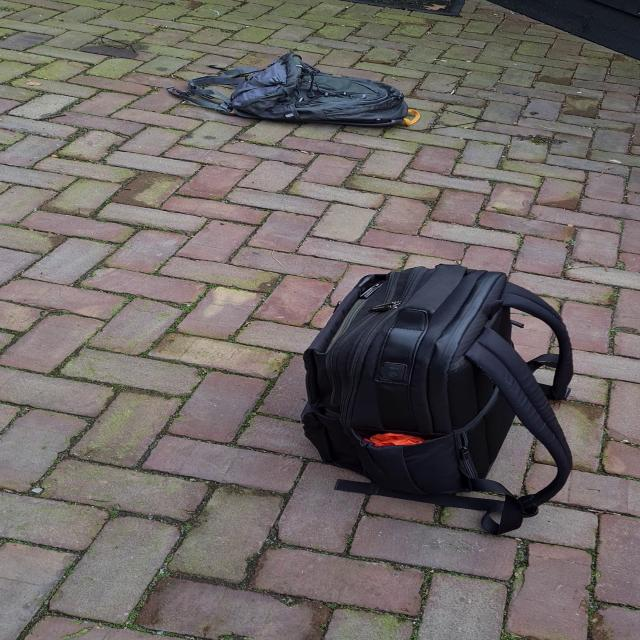backpack: (308, 257, 581, 541)
